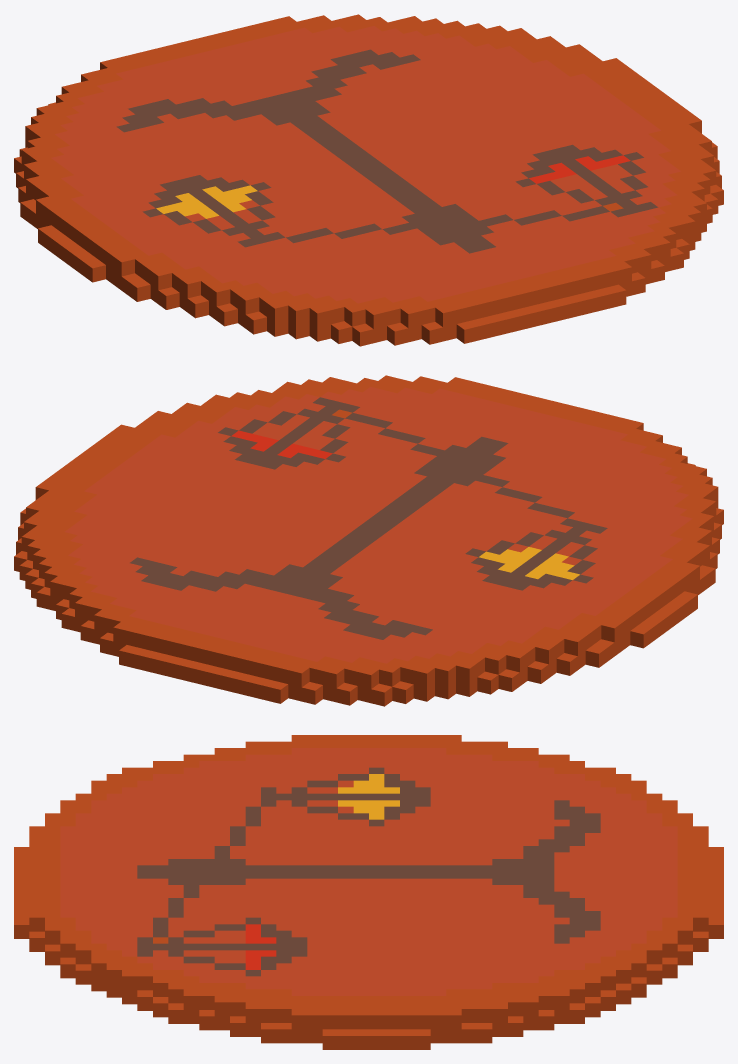
The model's file is button weigher.obj.
The picture shows the model from 3 angles, top to bottom: view 1: azimuth 30°, elevation 25°; view 2: azimuth 150°, elevation 25°; view 3: azimuth 270°, elevation 25°; orthographic projection.
Bounding box in the file's own units: 4.5 × 0.2 × 4.6.
1 material, 1 textured.
